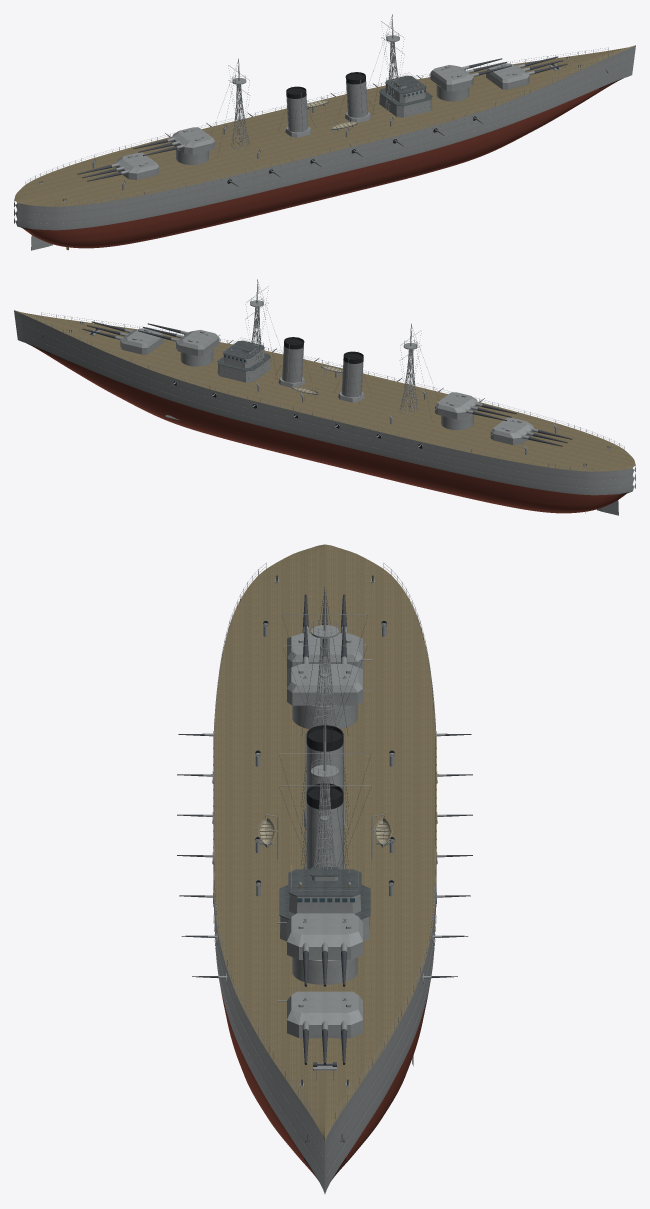
The model's file is tennessee.glb.
3 views of the same model, one above another, from view 1: azimuth 30°, elevation 25°; view 2: azimuth 150°, elevation 25°; view 3: azimuth 270°, elevation 25° (orthographic). The views are drawn at different scales.
Visible parts, largest first — view 1: Tennessee class; view 2: Tennessee class; view 3: Tennessee class.
Boxes of the visible parts, x1=… form: Tennessee class: x1=14, y1=14, x2=635, y2=250; Tennessee class: x1=14, y1=279, x2=635, y2=515; Tennessee class: x1=177, y1=544, x2=472, y2=1193.
Size of the model in its own units: 190 by 44.15 by 39.32.
9 materials, 8 textured.
